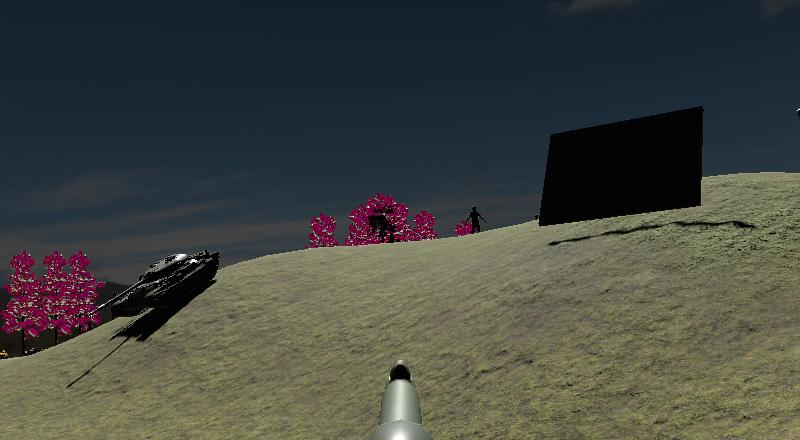Tank: (84, 243, 222, 321)
